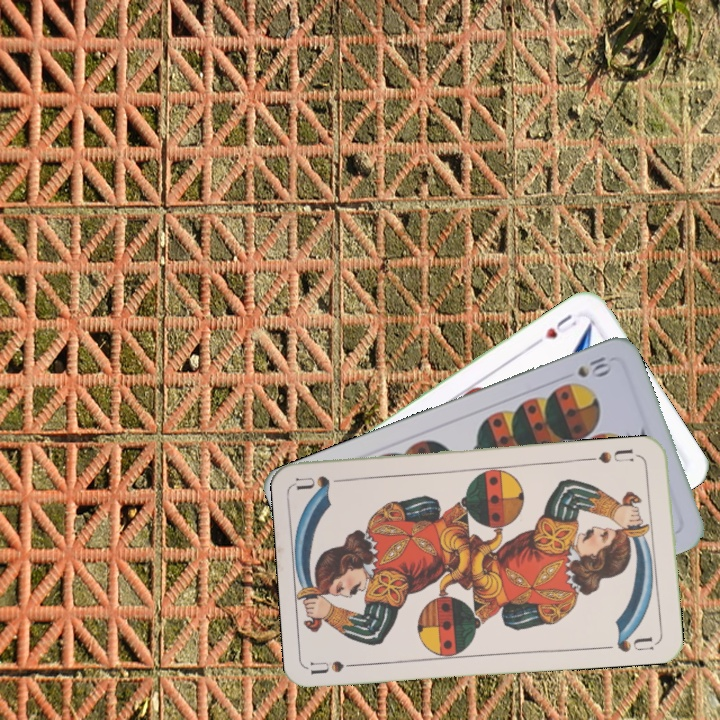HU: (541, 310, 580, 342)
S10: (573, 352, 612, 380)
SU: (308, 656, 368, 678), (595, 444, 636, 466)
